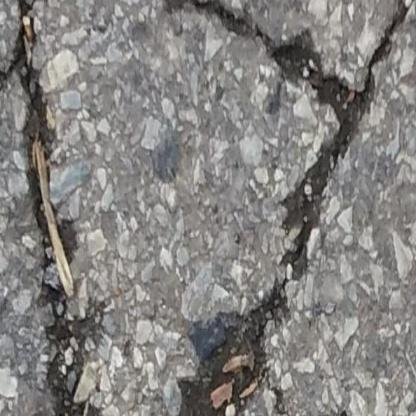Cracks: (151, 0, 416, 416), (0, 0, 108, 416), (327, 409, 388, 416), (305, 409, 325, 416)
